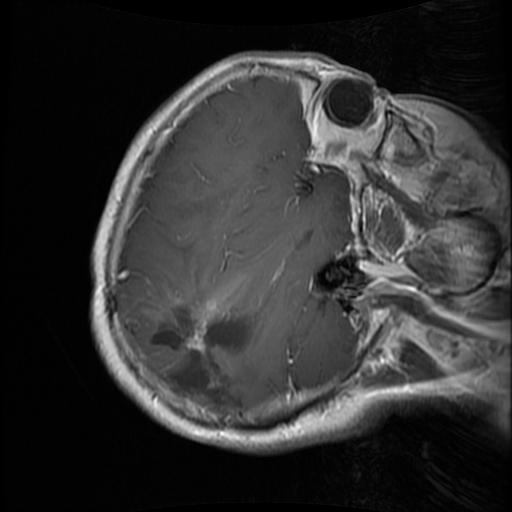glioma: (148, 305, 251, 409)
